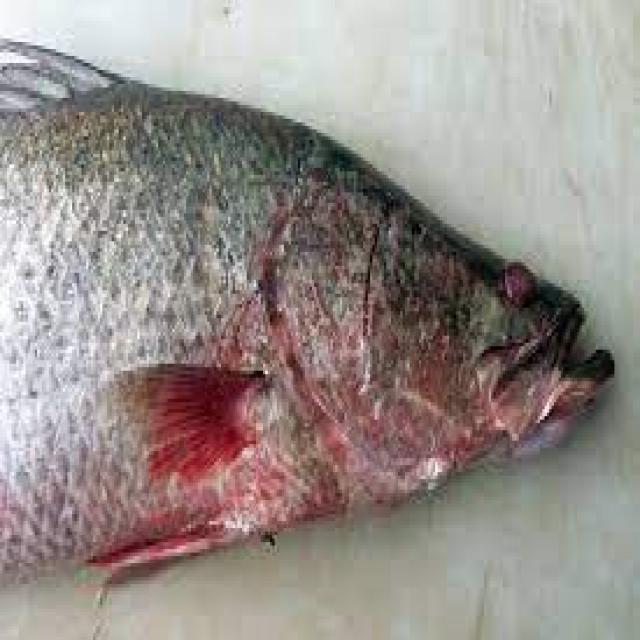EUS Disease: (2, 42, 618, 585), (103, 51, 618, 597)
